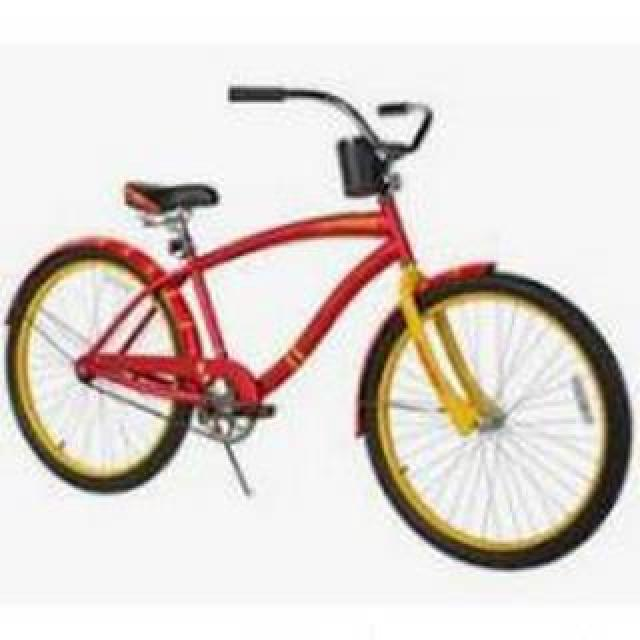Person: (3, 81, 631, 571)
